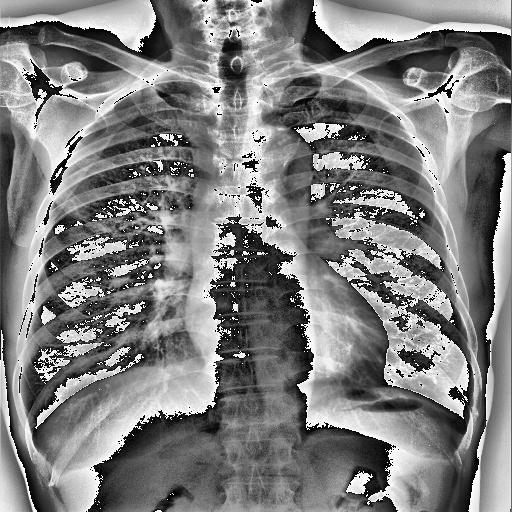0- Aortic enlargement: (244, 122, 316, 206), (245, 126, 311, 188), (255, 128, 314, 184)
10- Pleural effusion: (448, 402, 476, 448), (24, 420, 46, 456)
11- Pleural thickening: (448, 402, 476, 448), (24, 420, 46, 456)
13- Pulmonary fibrosis: (270, 133, 304, 169)
